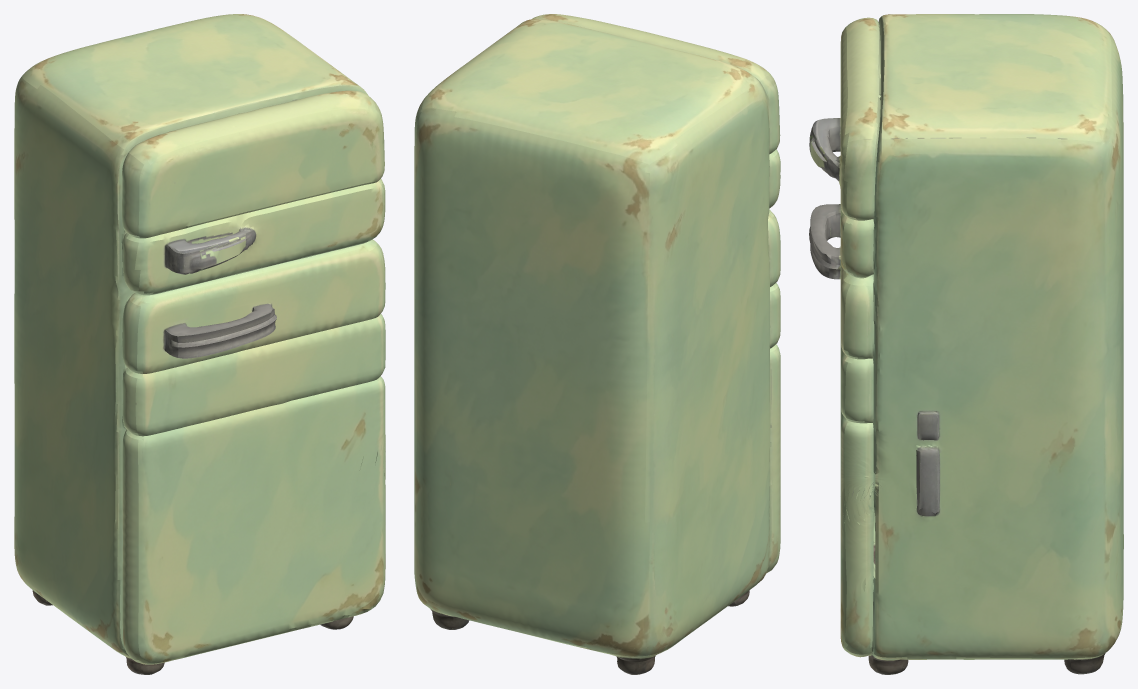
Rendered from Meshy_AI_Vintage_Mint_Refriger_1122061320_texture.glb.
3 views of the same model, side by side, from view 1: azimuth 30°, elevation 25°; view 2: azimuth 150°, elevation 25°; view 3: azimuth 270°, elevation 25° (orthographic). The views are drawn at different scales.
Visible parts, largest first — view 1: Mesh0; view 2: Mesh0; view 3: Mesh0.
Boxes of the visible parts, x1,y1,x2,y2 form: Mesh0: (14,14,385,674); Mesh0: (414,14,780,674); Mesh0: (809,14,1123,674).
Bounding box in the file's own units: 0.9704 × 1.9 × 0.9664.
1 material, 1 textured.
